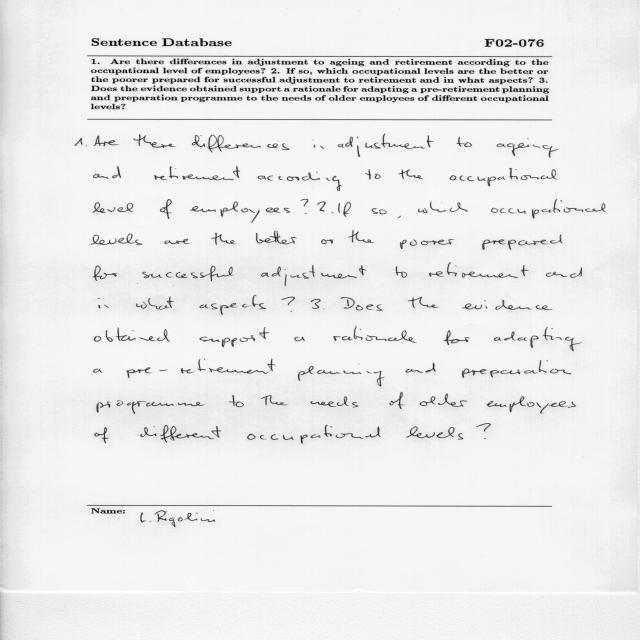word: (127, 359, 276, 378), (247, 425, 381, 444), (491, 199, 606, 219), (338, 134, 434, 157), (261, 265, 366, 286), (190, 201, 290, 223), (494, 327, 582, 351), (298, 364, 385, 387), (462, 360, 571, 378), (450, 168, 557, 186), (192, 135, 289, 153), (429, 262, 529, 278), (258, 172, 342, 191), (486, 397, 576, 414), (97, 400, 205, 414), (333, 326, 417, 343), (200, 328, 269, 348), (140, 425, 221, 442), (143, 266, 234, 281), (199, 295, 266, 315), (497, 138, 558, 158), (482, 235, 563, 250), (154, 167, 240, 181), (94, 327, 170, 342), (462, 300, 553, 310), (406, 427, 464, 440), (420, 393, 468, 407), (133, 134, 176, 148), (340, 297, 383, 311), (418, 202, 468, 214), (91, 234, 142, 245), (400, 239, 454, 249), (256, 231, 297, 244), (136, 296, 174, 310), (311, 397, 359, 408), (93, 202, 133, 213), (443, 330, 470, 345), (546, 267, 582, 278), (93, 265, 117, 281), (94, 166, 121, 179), (348, 231, 375, 244), (408, 297, 439, 308), (211, 233, 236, 245), (406, 363, 436, 373), (261, 395, 288, 406), (94, 136, 119, 147), (390, 392, 405, 409), (399, 169, 424, 179), (160, 199, 172, 219), (476, 423, 491, 439), (95, 427, 109, 443), (281, 297, 295, 312), (338, 202, 351, 217), (229, 395, 244, 407), (456, 137, 472, 147), (365, 170, 381, 180), (300, 199, 309, 214), (396, 266, 407, 278), (164, 239, 190, 244), (98, 298, 109, 308), (312, 140, 324, 149), (311, 299, 321, 309), (317, 202, 326, 212), (372, 208, 387, 214), (321, 239, 334, 244), (75, 138, 83, 146), (294, 337, 305, 341), (94, 369, 103, 373), (398, 216, 401, 218), (332, 212, 334, 214), (86, 145, 87, 146), (323, 309, 324, 309)
